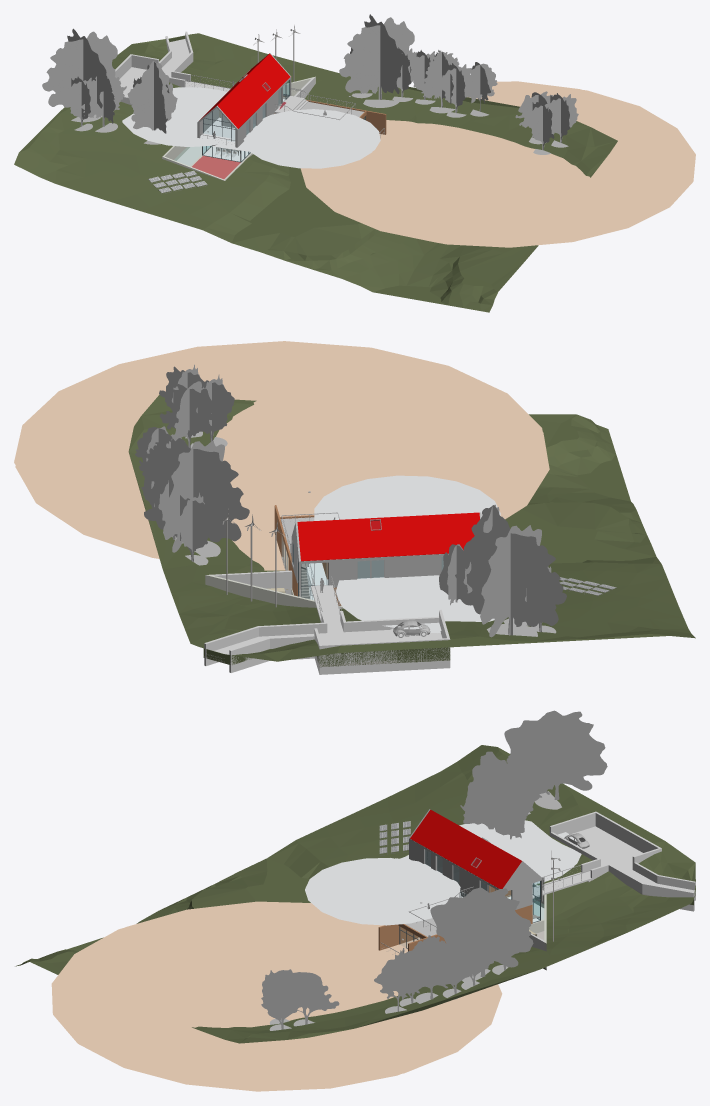
3 views of the same model, one above another, from view 1: azimuth 30°, elevation 25°; view 2: azimuth 150°, elevation 25°; view 3: azimuth 270°, elevation 25° (orthographic). The views are drawn at different scales.
Visible parts, largest first — view 1: 3ZGD7y6S5209$mGLi_sPll, 20nhVaBTTAJguMI9o6oDPn, 1N_4TwOEH5194SbNmRTFml, 21MLmufC9A8ftVM8JLuL62, 2kYqvrv7r7Ee9Lf6DEVctg, 2kYqvrv7r7Ee9Lf6DEVd2D, 2cgXCjpDT0ZxBvxMSr3pfm, 2kYqvrv7r7Ee9Lf6DEVcq_, 2kYqvrv7r7Ee9Lf6DEVcvD, 2kYqvrv7r7Ee9Lf6DEVcn3, 2kYqvrv7r7Ee9Lf6DEVclx, 2kYqvrv7r7Ee9Lf6DEVcpT (+10 smaller); view 2: 1N_4TwOEH5194SbNmRTFml, 3ZGD7y6S5209$mGLi_sPll, 20nhVaBTTAJguMI9o6oDPn, 21MLmufC9A8ftVM8JLuL62, 2kYqvrv7r7Ee9Lf6DEVd2D, 2kYqvrv7r7Ee9Lf6DEVctg, 2cgXCjpDT0ZxBvxMSr3pfm, 38NblWsDL1I8DljLvn67bV, 3_T6_Ndub6XO_ef59N4DRY, 2kYqvrv7r7Ee9Lf6DEVcim, 2kYqvrv7r7Ee9Lf6DEVctv, 38BWtPCUX0VgAKmmGnoKyb (+13 smaller); view 3: 1N_4TwOEH5194SbNmRTFml, 3ZGD7y6S5209$mGLi_sPll, 21MLmufC9A8ftVM8JLuL62, 20nhVaBTTAJguMI9o6oDPn, 2kYqvrv7r7Ee9Lf6DEVd2D, 2kYqvrv7r7Ee9Lf6DEVctg, 2cgXCjpDT0ZxBvxMSr3pfm, 2kYqvrv7r7Ee9Lf6DEVcq_, 38BWtPCUX0VgAKmmGnoKyb, 2kYqvrv7r7Ee9Lf6DEVclA, 2kYqvrv7r7Ee9Lf6DEVcvD, 2kYqvrv7r7Ee9Lf6DEVcpT (+13 smaller).
Part boxes in pixels (x1,y1,x2,y2): 3ZGD7y6S5209$mGLi_sPll: (14,33,617,312); 20nhVaBTTAJguMI9o6oDPn: (323,82,695,247); 1N_4TwOEH5194SbNmRTFml: (300,81,687,245); 21MLmufC9A8ftVM8JLuL62: (122,87,380,168); 2kYqvrv7r7Ee9Lf6DEVctg: (339,14,414,107); 2kYqvrv7r7Ee9Lf6DEVd2D: (42,28,117,122); 2cgXCjpDT0ZxBvxMSr3pfm: (199,53,290,128); 2kYqvrv7r7Ee9Lf6DEVcq_: (131,61,177,144); 2kYqvrv7r7Ee9Lf6DEVcvD: (81,71,126,132); 2kYqvrv7r7Ee9Lf6DEVcn3: (419,50,459,113); 2kYqvrv7r7Ee9Lf6DEVclx: (526,100,560,154); 2kYqvrv7r7Ee9Lf6DEVcpT: (464,62,497,116); 1N_4TwOEH5194SbNmRTFml: (15,345,549,570); 3ZGD7y6S5209$mGLi_sPll: (128,395,695,667); 20nhVaBTTAJguMI9o6oDPn: (14,341,542,566); 21MLmufC9A8ftVM8JLuL62: (314,475,500,632); 2kYqvrv7r7Ee9Lf6DEVd2D: (461,522,566,644); 2kYqvrv7r7Ee9Lf6DEVctg: (144,438,249,557); 2cgXCjpDT0ZxBvxMSr3pfm: (297,512,479,561); 38NblWsDL1I8DljLvn67bV: (301,553,448,587); 3_T6_Ndub6XO_ef59N4DRY: (319,638,447,674); 2kYqvrv7r7Ee9Lf6DEVcim: (159,381,220,448); 2kYqvrv7r7Ee9Lf6DEVctv: (174,492,215,565); 38BWtPCUX0VgAKmmGnoKyb: (206,629,442,658); 1N_4TwOEH5194SbNmRTFml: (59,901,502,1089); 3ZGD7y6S5209$mGLi_sPll: (15,745,695,1043); 21MLmufC9A8ftVM8JLuL62: (305,820,581,925); 20nhVaBTTAJguMI9o6oDPn: (51,904,494,1091); 2kYqvrv7r7Ee9Lf6DEVd2D: (504,710,607,809); 2kYqvrv7r7Ee9Lf6DEVctg: (430,887,533,982); 2cgXCjpDT0ZxBvxMSr3pfm: (410,809,521,888); 2kYqvrv7r7Ee9Lf6DEVcq_: (460,751,516,829); 38BWtPCUX0VgAKmmGnoKyb: (570,826,694,895); 2kYqvrv7r7Ee9Lf6DEVclA: (261,975,308,1030); 2kYqvrv7r7Ee9Lf6DEVcvD: (506,744,557,814); 2kYqvrv7r7Ee9Lf6DEVcpT: (374,957,419,1017).
Bounding box in the file's own units: 94.81 × 24.31 × 87.2.
